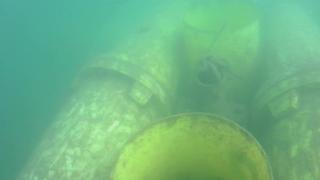pipe: (12, 1, 190, 179), (108, 111, 275, 180), (259, 1, 320, 179), (182, 1, 263, 109)
